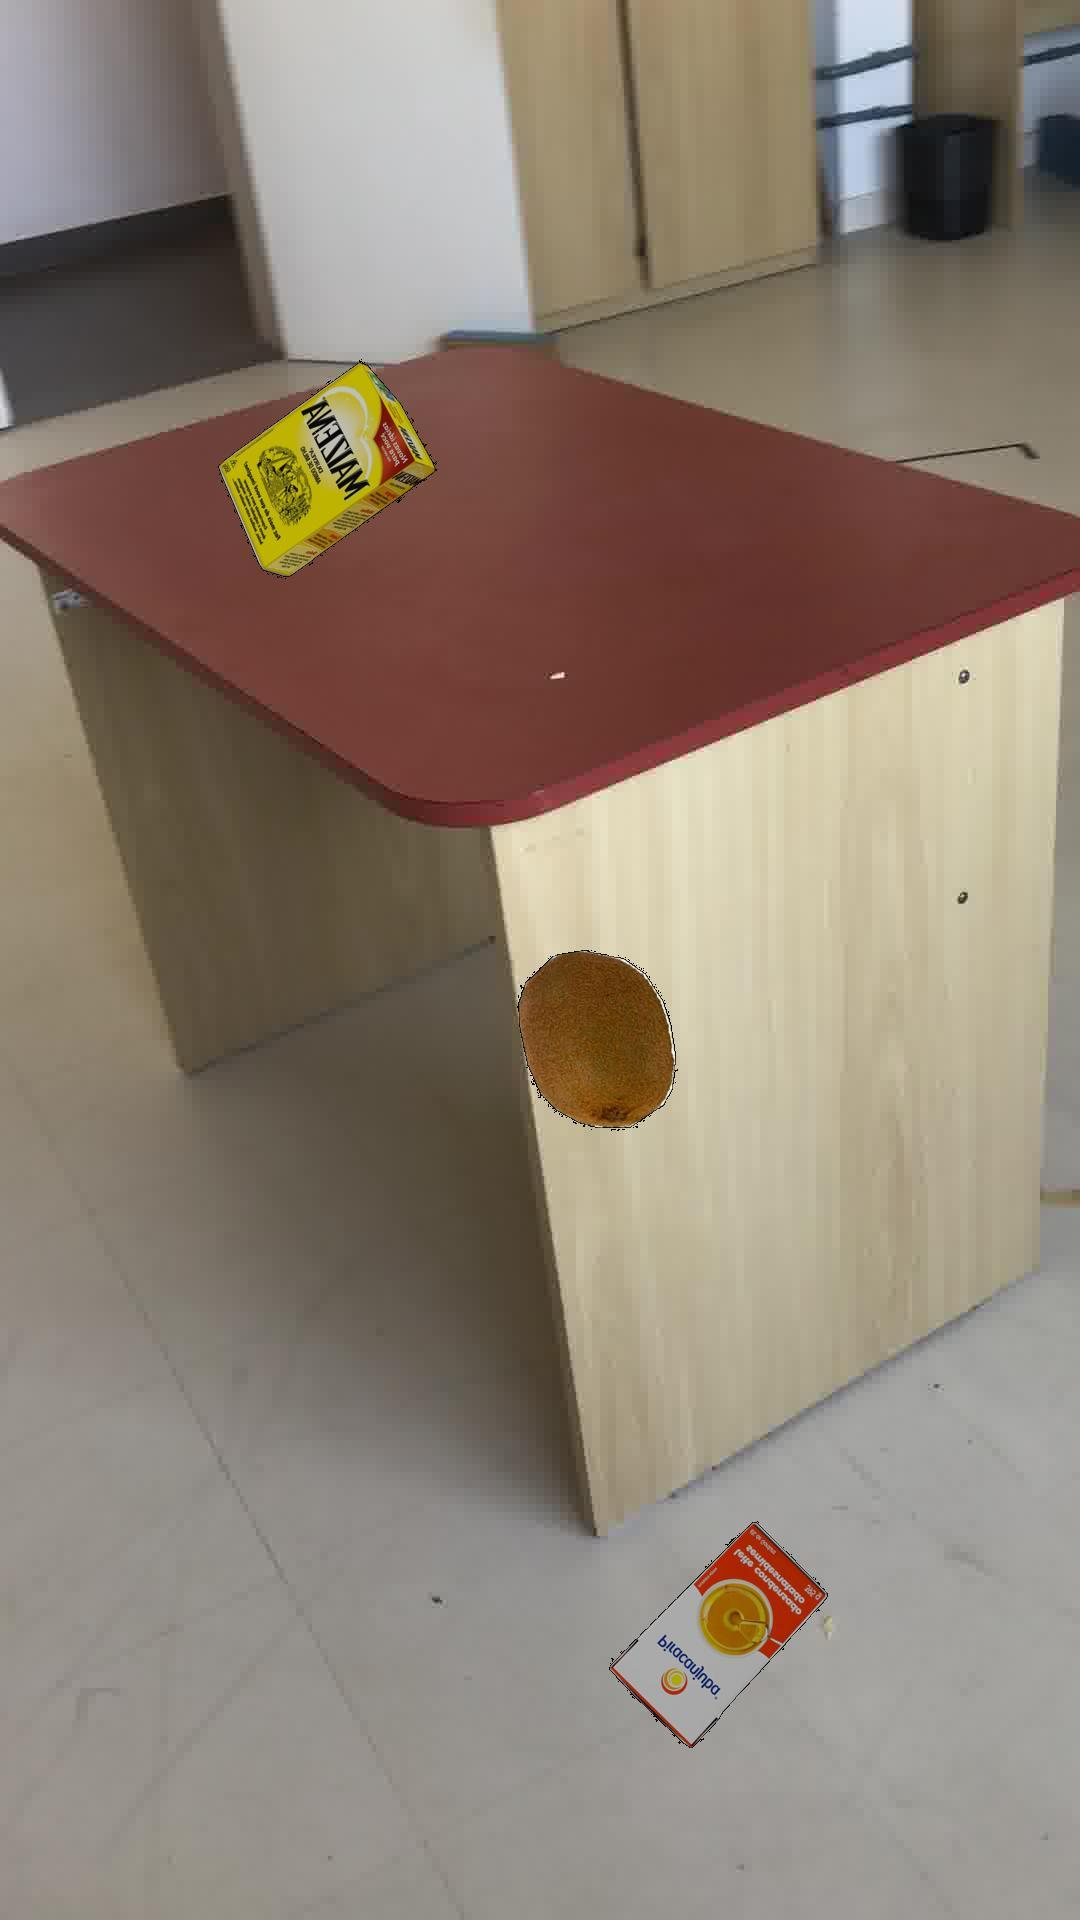kiwi: (516, 948, 676, 1126)
